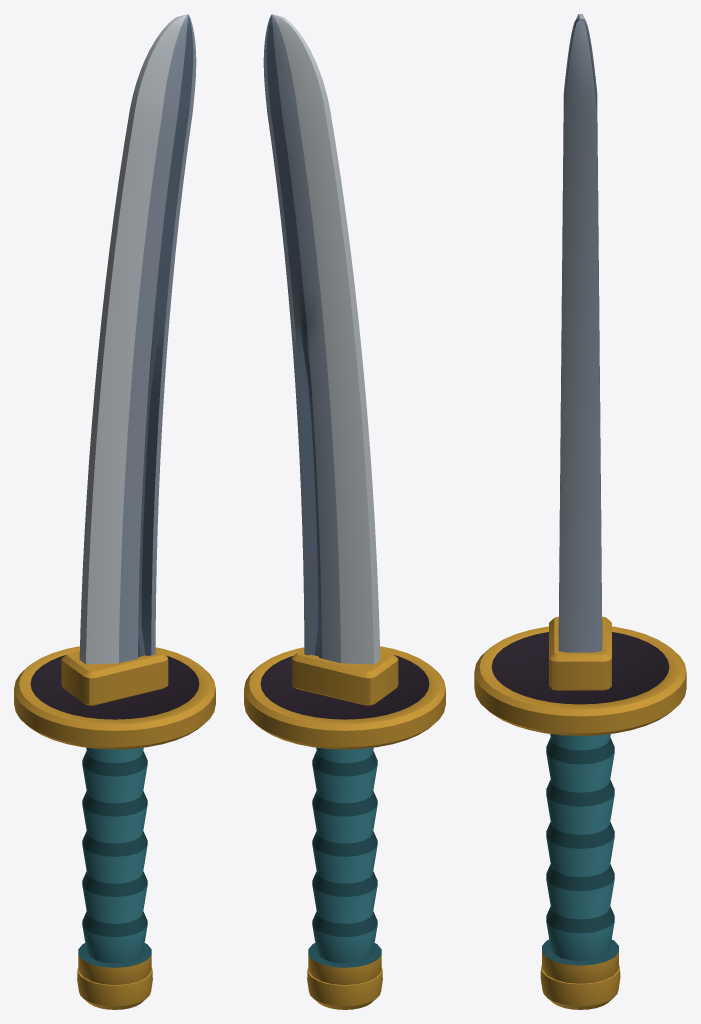
The model's file is Katana_24.glb.
The picture shows the model from 3 angles, left to right: view 1: azimuth 30°, elevation 25°; view 2: azimuth 150°, elevation 25°; view 3: azimuth 270°, elevation 25°; orthographic projection. The views are drawn at different scales.
Parts seen in each view (by area): view 1: Katana_24; view 2: Katana_24; view 3: Katana_24.
Boxes of the visible parts, x1=… form: Katana_24: x1=14, y1=14, x2=215, y2=1009; Katana_24: x1=244, y1=14, x2=445, y2=1009; Katana_24: x1=474, y1=14, x2=686, y2=1009.
Size of the model in its own units: 1.23 by 6.52 by 1.23.
